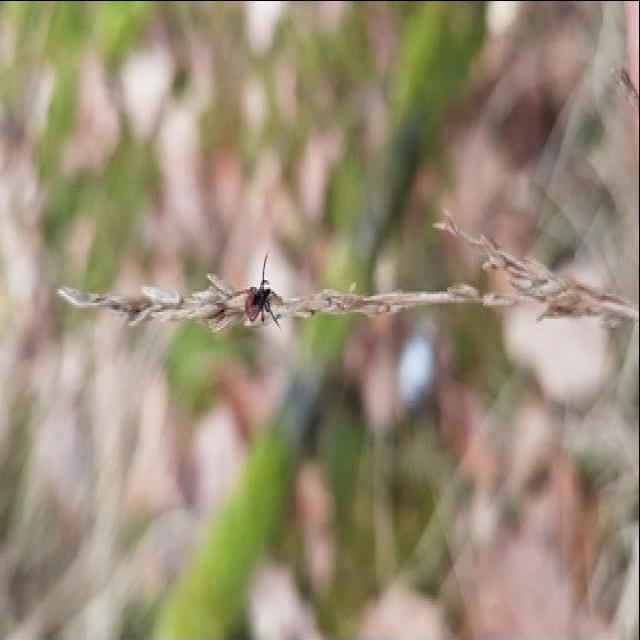Ixodes Ricinus-F: (244, 248, 283, 330)
